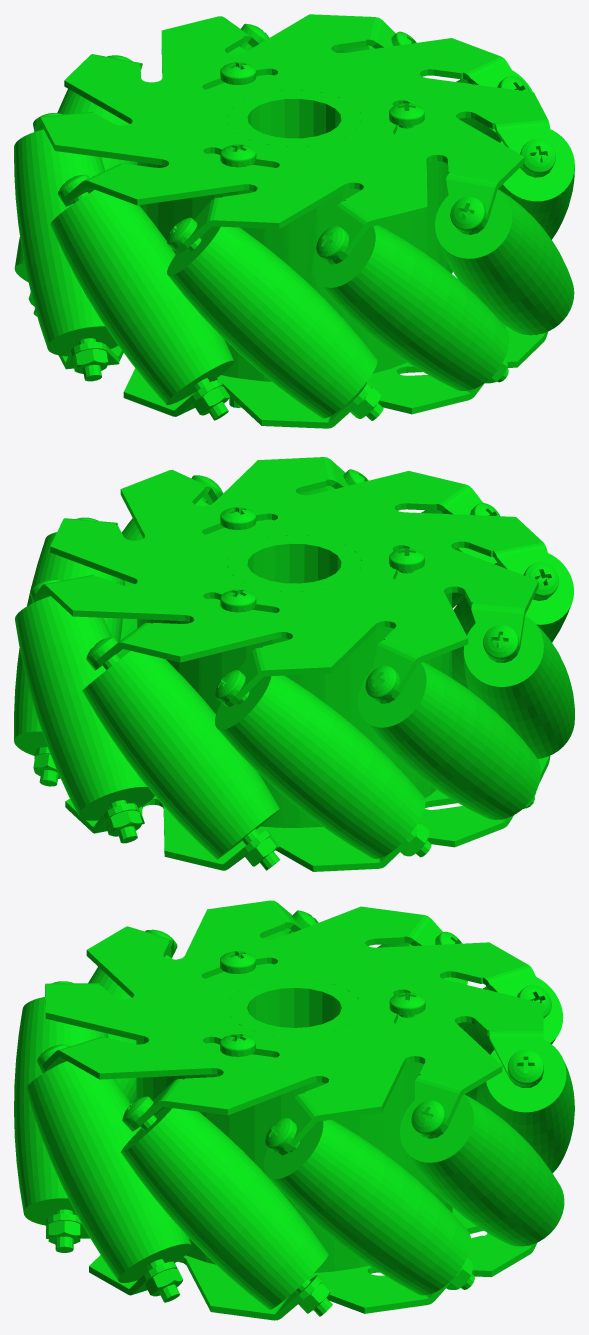
Rendered from wheel_right_front.dae.
The picture shows the model from 3 angles, top to bottom: view 1: azimuth 30°, elevation 25°; view 2: azimuth 150°, elevation 25°; view 3: azimuth 270°, elevation 25°; orthographic projection.
Parts seen in each view (by area): view 1: Wheel Right Front; view 2: Wheel Right Front; view 3: Wheel Right Front.
Boxes of the visible parts, bbox=[...] form: Wheel Right Front: bbox=[14, 14, 574, 428]; Wheel Right Front: bbox=[14, 457, 574, 871]; Wheel Right Front: bbox=[14, 900, 574, 1320].
Size of the model in its own units: 0.1252 by 0.124 by 0.0631.
